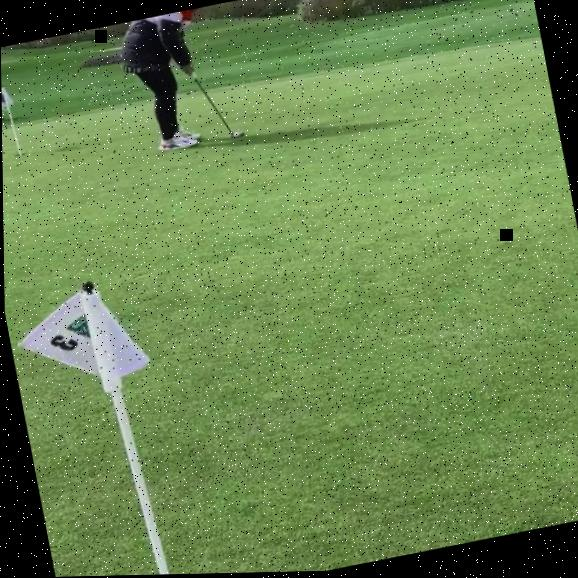ClubHead: (229, 131, 245, 139)
